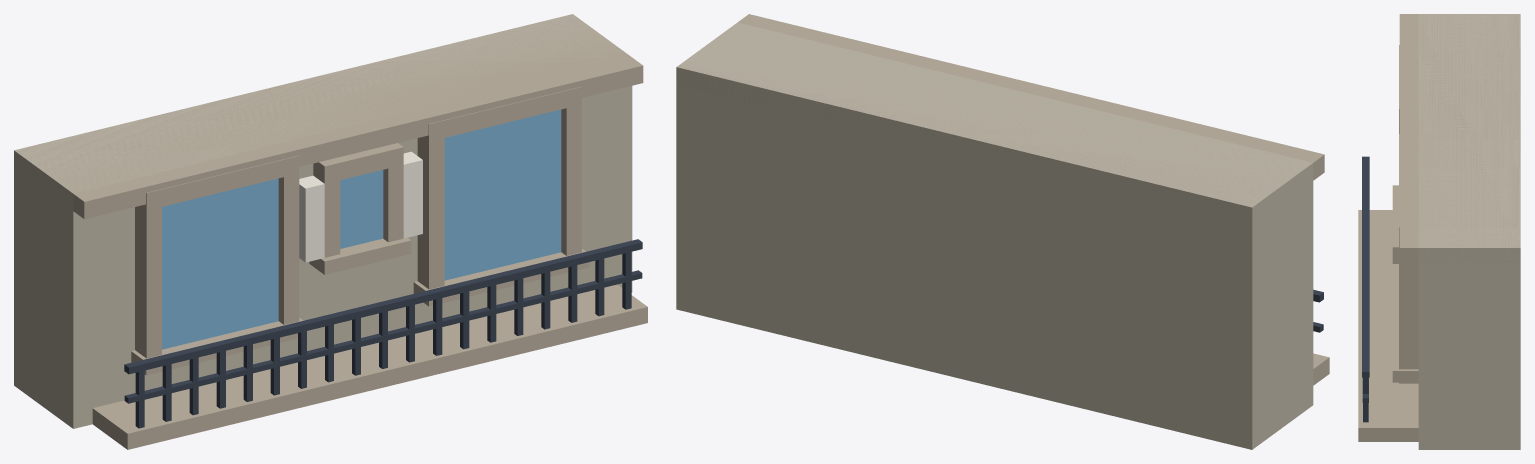
Rendered from cittaCremaPianoB.glb.
3 views of the same model, side by side, from view 1: azimuth 30°, elevation 25°; view 2: azimuth 150°, elevation 25°; view 3: azimuth 270°, elevation 25° (orthographic). The views are drawn at different scales.
Parts seen in each view (by area): view 1: cittaCremaPianoB_stone, cittaCremaPianoB_cittaCrema, cittaCremaPianoB_glass, cittaCremaPianoB_steelDark, cittaCremaPianoB_white; view 2: cittaCremaPianoB_cittaCrema, cittaCremaPianoB_stone; view 3: cittaCremaPianoB_cittaCrema, cittaCremaPianoB_stone, cittaCremaPianoB_steelDark.
Boxes of the visible parts, x1,y1,x2,y2 form: cittaCremaPianoB_stone: (14,14,647,449); cittaCremaPianoB_cittaCrema: (14,14,632,428); cittaCremaPianoB_glass: (162,109,561,349); cittaCremaPianoB_steelDark: (124,239,642,428); cittaCremaPianoB_white: (299,151,422,262); cittaCremaPianoB_cittaCrema: (676,22,1313,449); cittaCremaPianoB_stone: (676,14,1329,385); cittaCremaPianoB_cittaCrema: (1418,14,1520,449); cittaCremaPianoB_stone: (1358,14,1520,441); cittaCremaPianoB_steelDark: (1362,156,1369,422).
Bounding box in the file's own units: 8.7 × 3.5 × 2.54.
